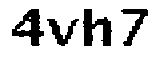4: (11, 5, 47, 49)
7: (119, 5, 151, 48)
h: (80, 4, 115, 52)
v: (47, 16, 81, 49)
